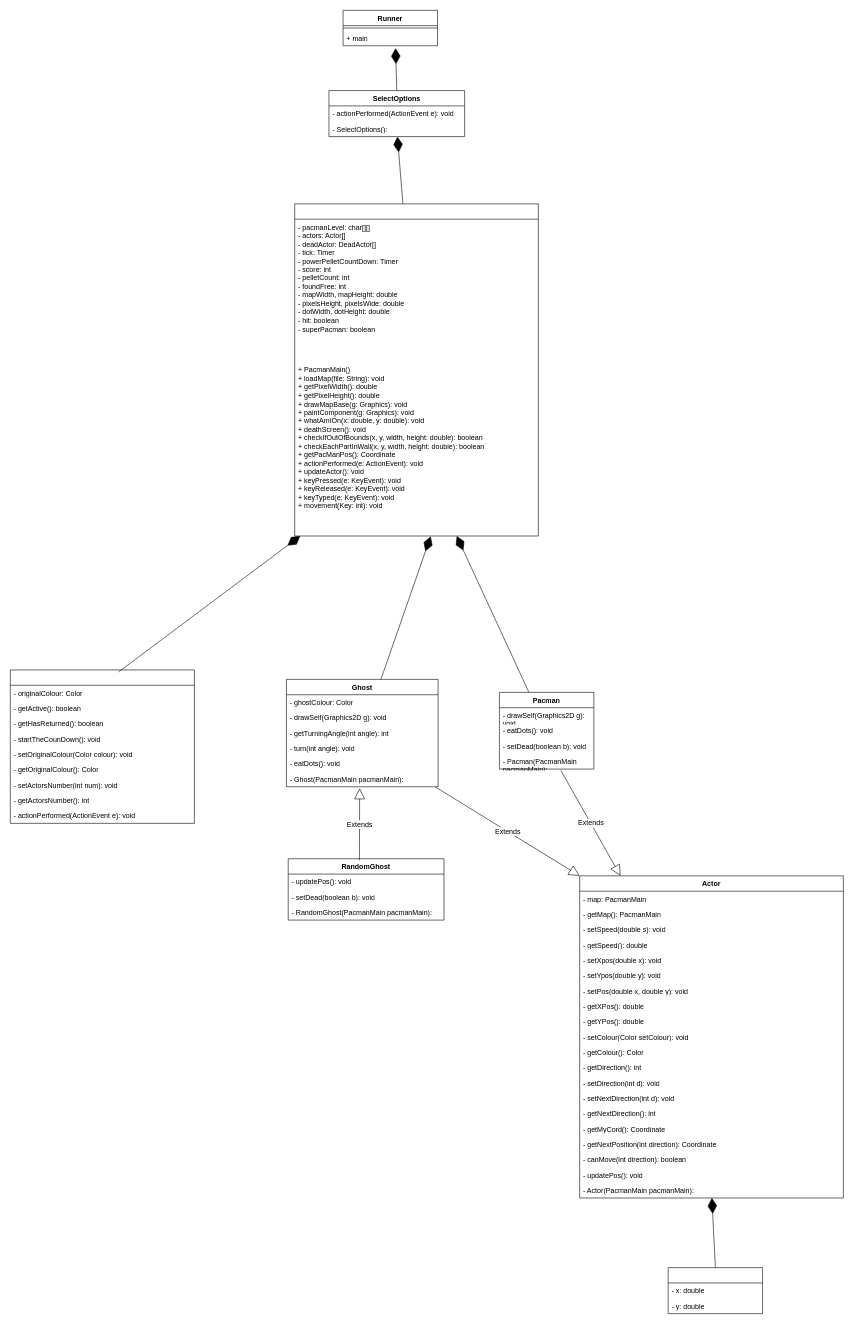
The diagram is 854 pixels wide and 1326 high, and some of its shapes have lost their labels. The shapes that lost their labels are listed below. From the top down, each one's box as (x1, y1, x2, y2) in pixels, then its label:
(294, 203, 538, 536): PacMain
(10, 669, 194, 823): DeadActor
(668, 1267, 763, 1314): Coordinate
